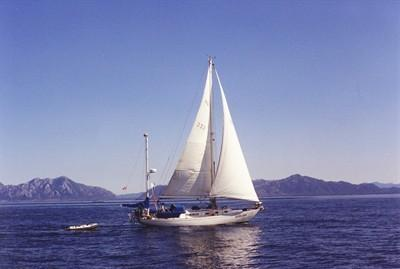Ship: (139, 58, 264, 227)
